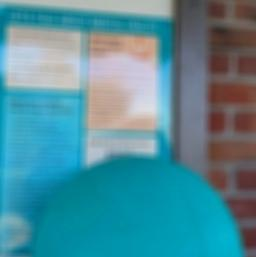algae: (32, 156, 249, 257)
